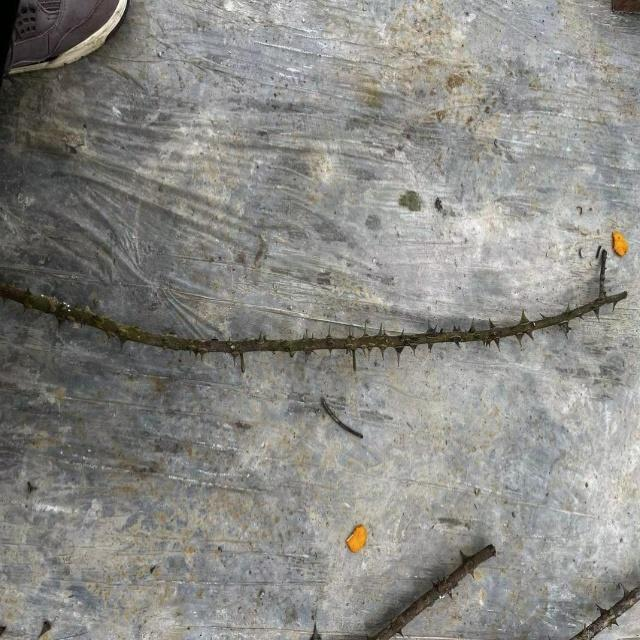branch: (0, 284, 583, 359)
